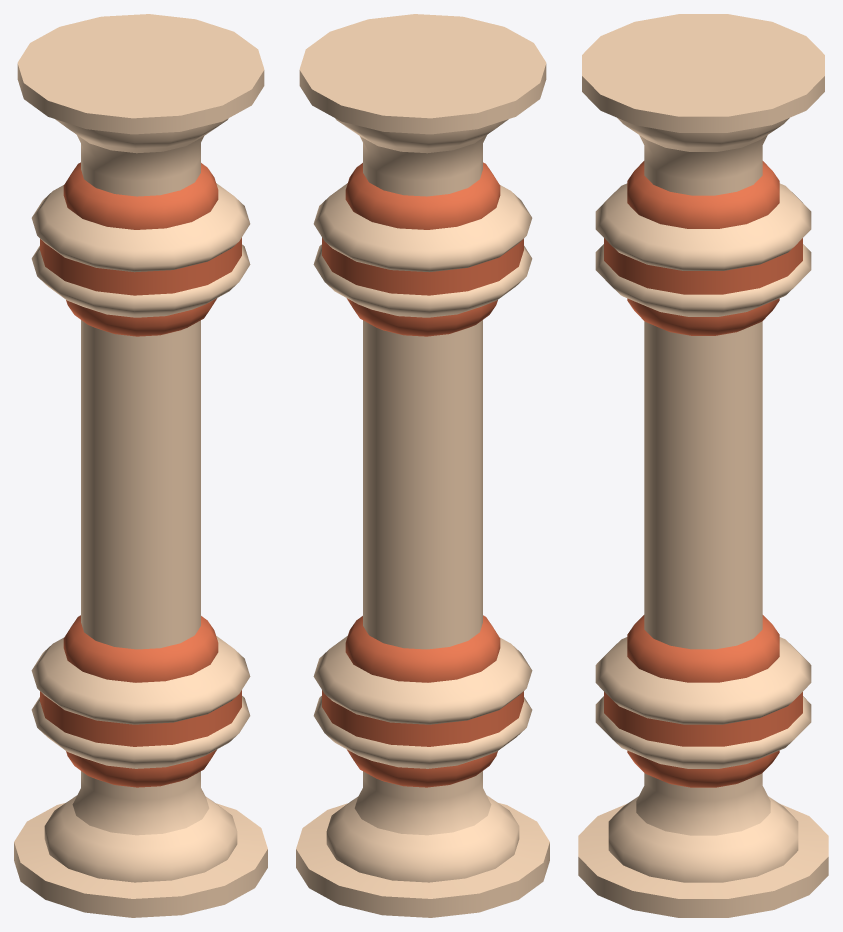
File: PillarF.fbx
The picture shows the model from 3 angles, left to right: view 1: azimuth 30°, elevation 25°; view 2: azimuth 150°, elevation 25°; view 3: azimuth 270°, elevation 25°; orthographic projection.
Parts seen in each view (by area): view 1: Cylinder.002; view 2: Cylinder.002; view 3: Cylinder.002.
Boxes of the visible parts, left/top/right/bottom form: Cylinder.002: left=14, top=14, right=267, bottom=917; Cylinder.002: left=296, top=14, right=549, bottom=917; Cylinder.002: left=578, top=14, right=828, bottom=917.
Size of the model in its own units: 259 by 913 by 259.
